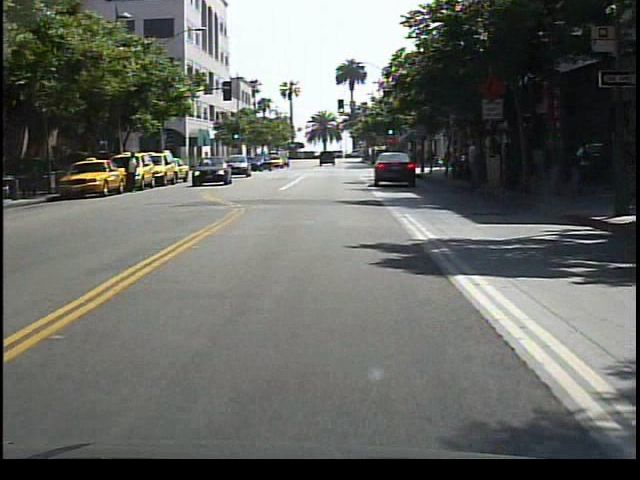person: (464, 134, 488, 196), (126, 147, 144, 196)
